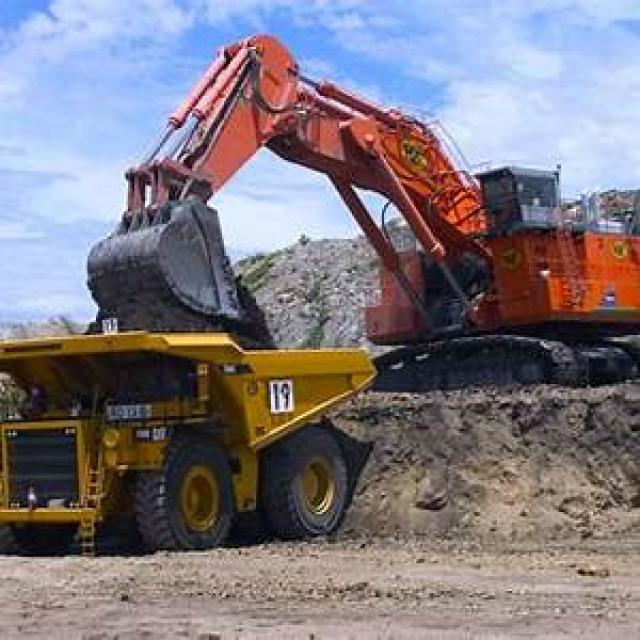dump_truck: (0, 324, 382, 559)
excavator: (70, 17, 638, 401)
